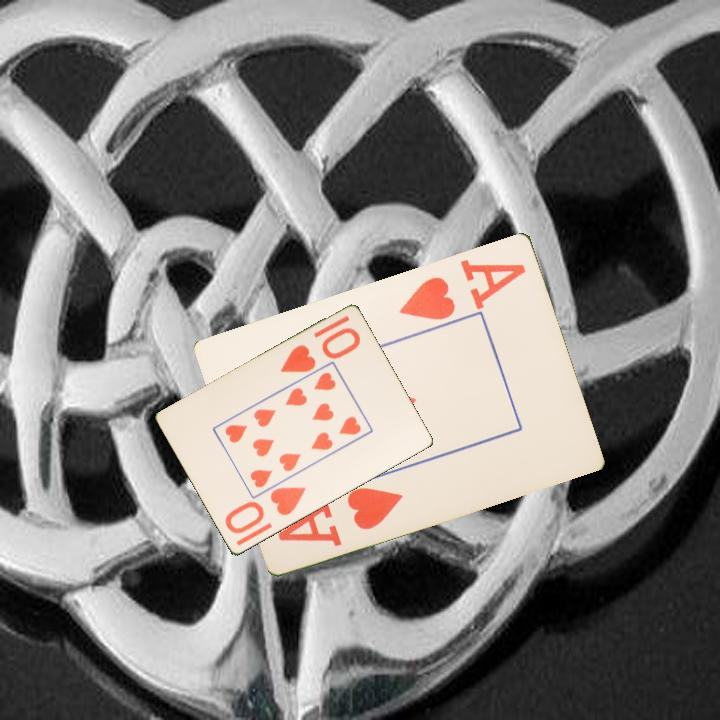10h: (221, 484, 309, 537), (276, 324, 364, 376)
Ah: (395, 255, 529, 323), (274, 483, 406, 549)
